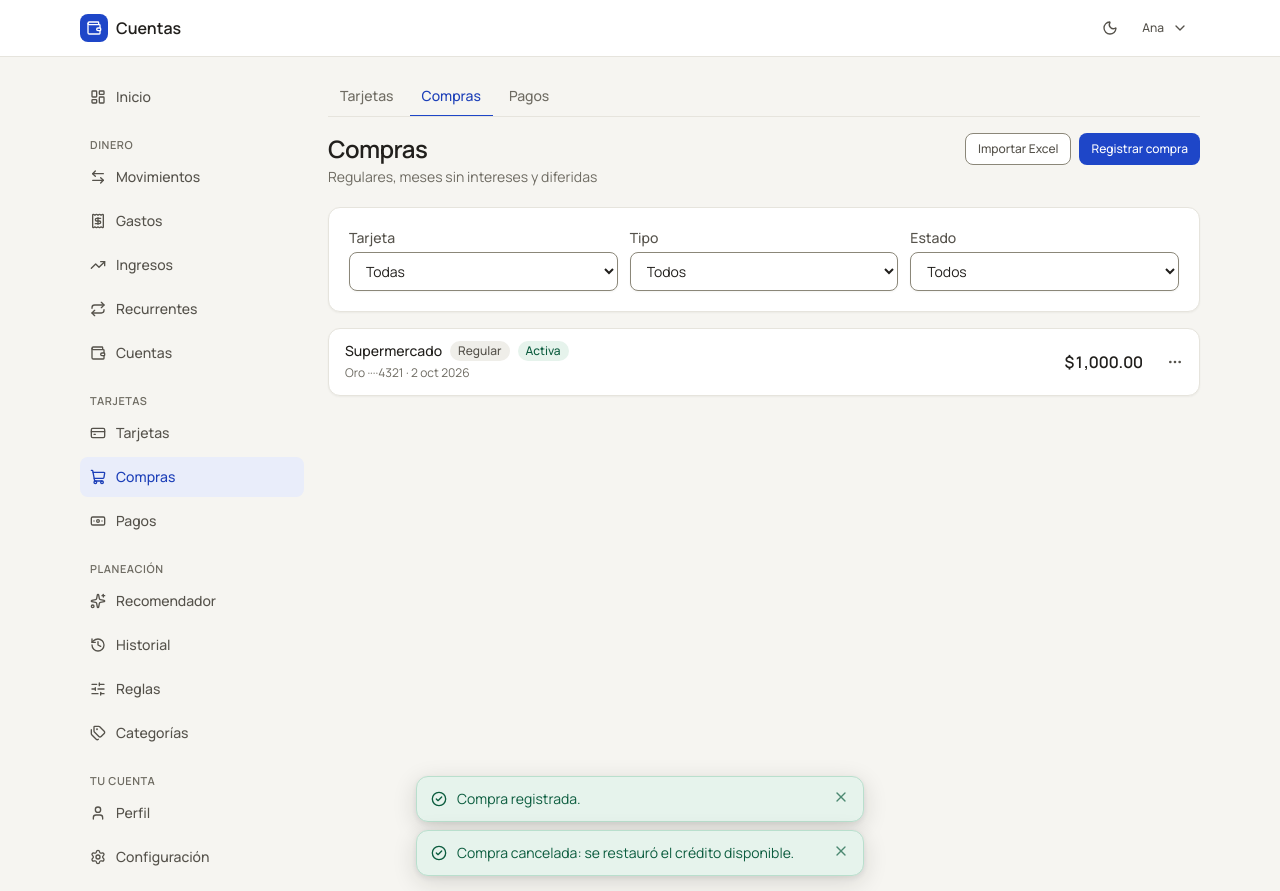
Test: compras › elimina una compra regular con el cargo pendiente
Click the button named "Más acciones de Supermercado": (1175, 362) [1159,346,1191,378]
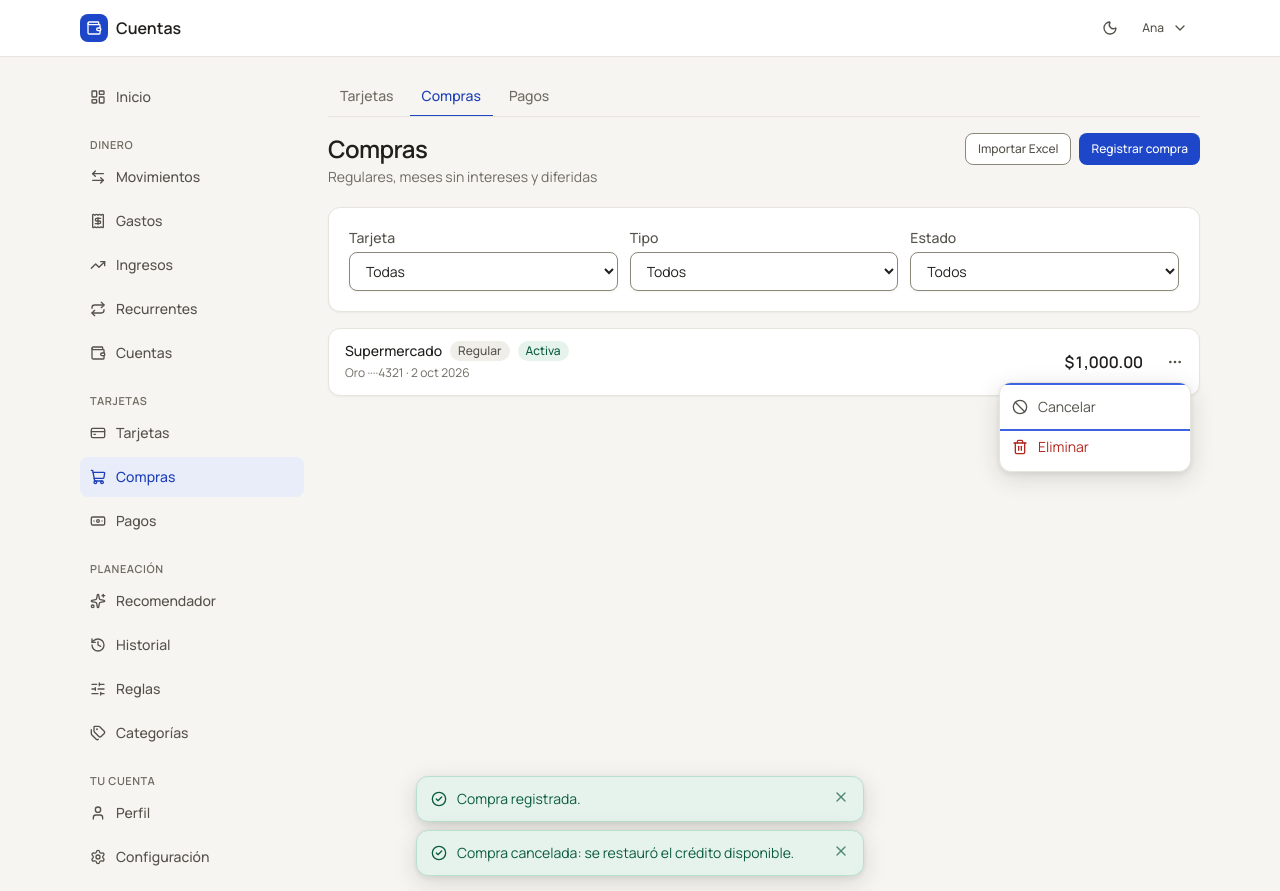
Click the menu item "Eliminar": (1095, 447) [1000,427,1190,467]
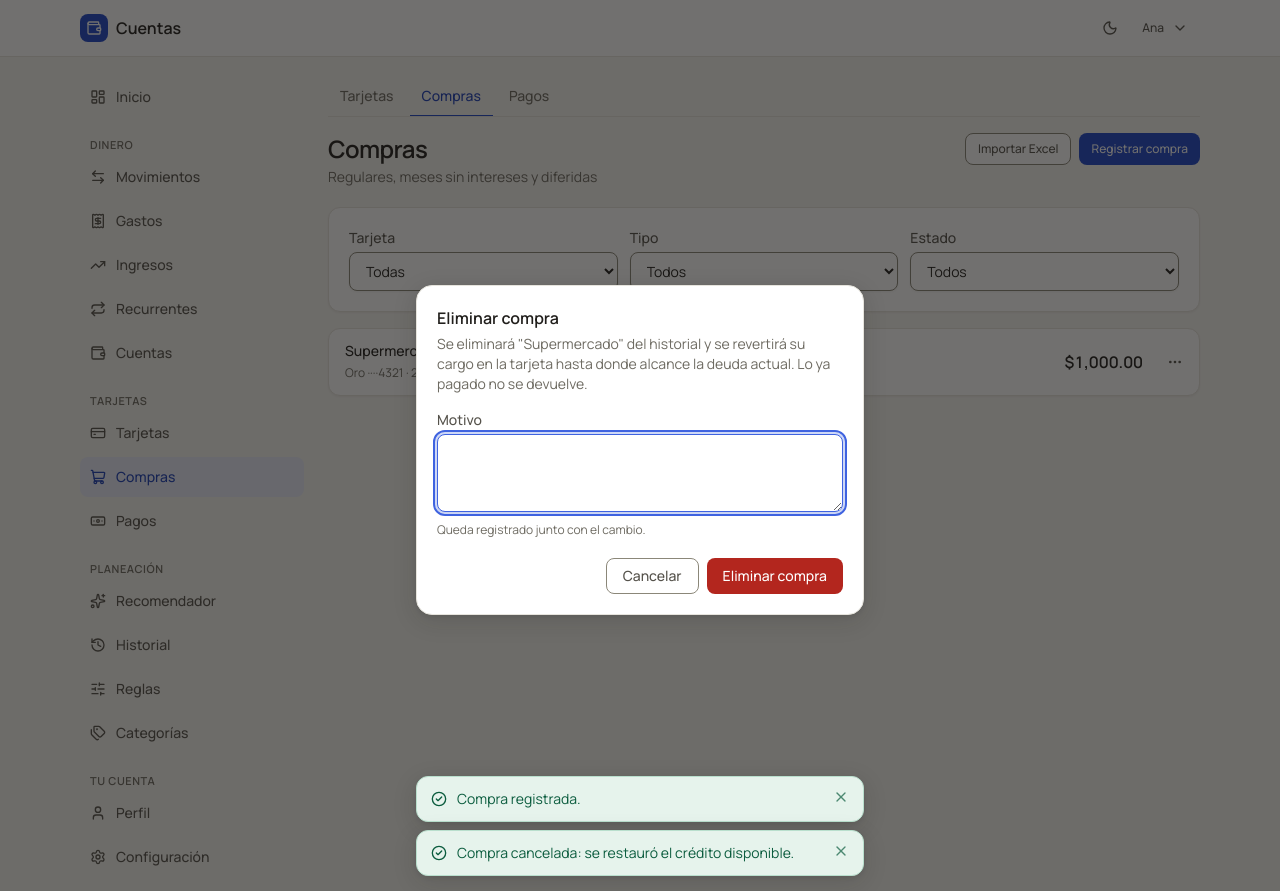
Check: the text "hasta donde alcance la deuda actual" is shown, box [437,334,830,393]
In the text box labelled "Motivo": (640, 473) [437,434,843,512], type "Registrada dos veces"
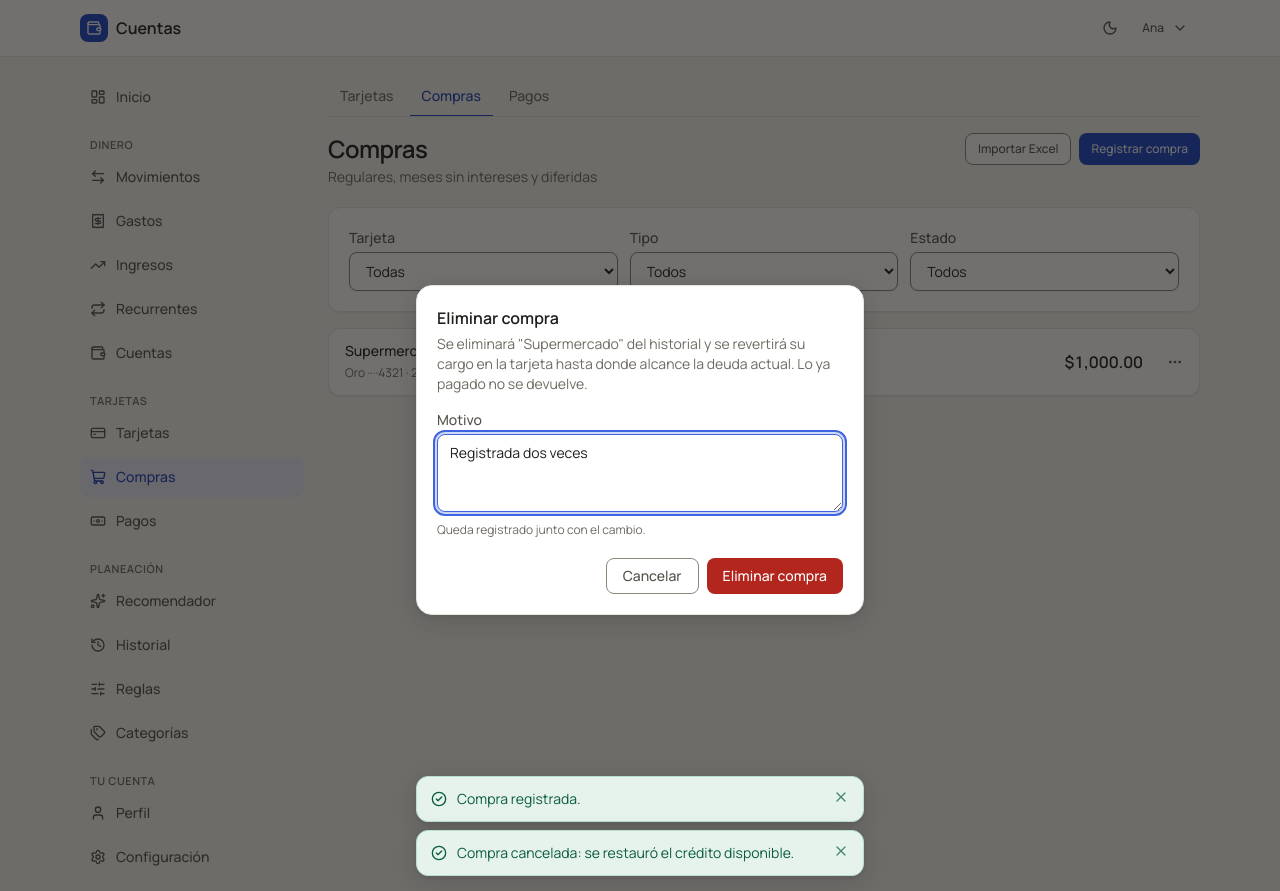
Click the button "Eliminar compra": (775, 576) [707,558,843,594]
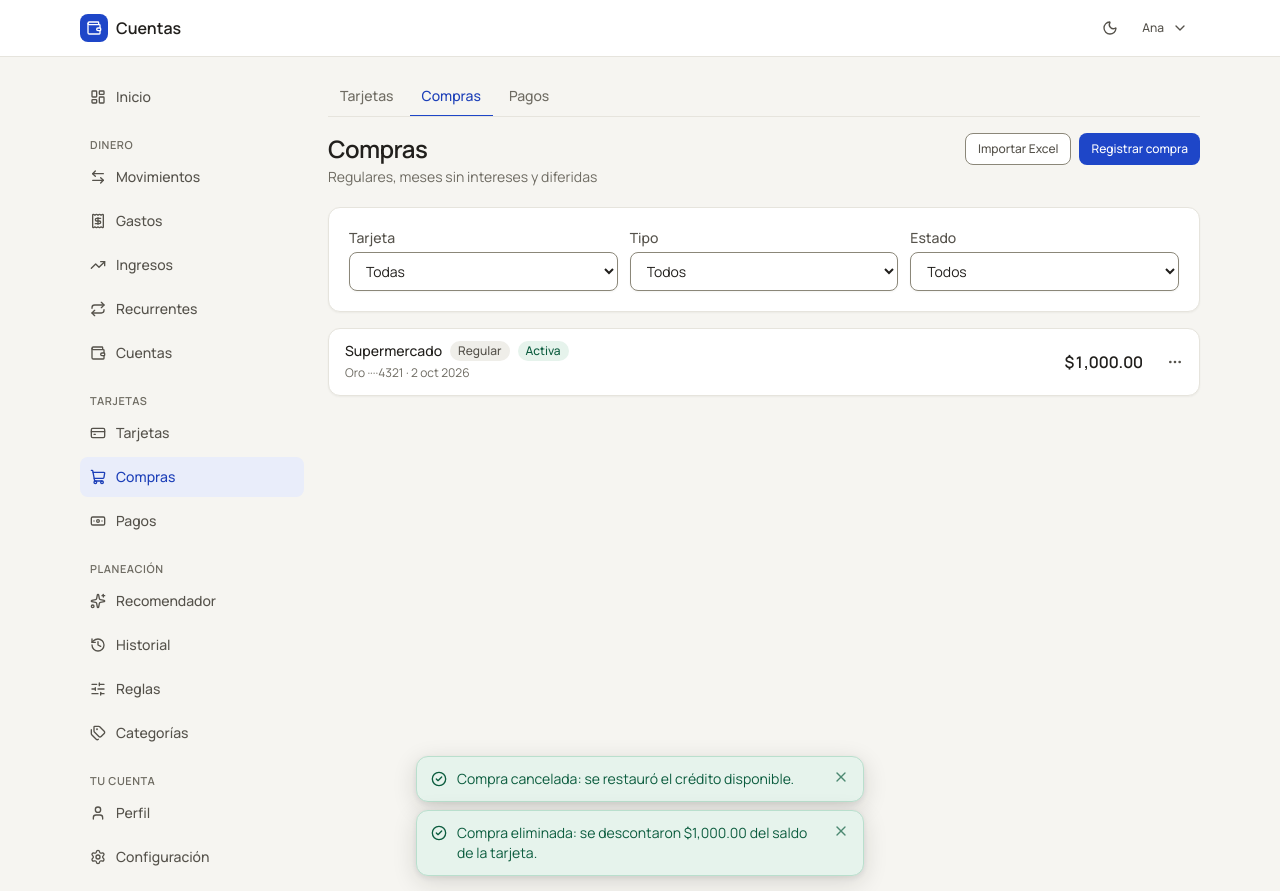
Check: the text "se descontaron $1,000.00" is shown, box [457,823,807,862]
